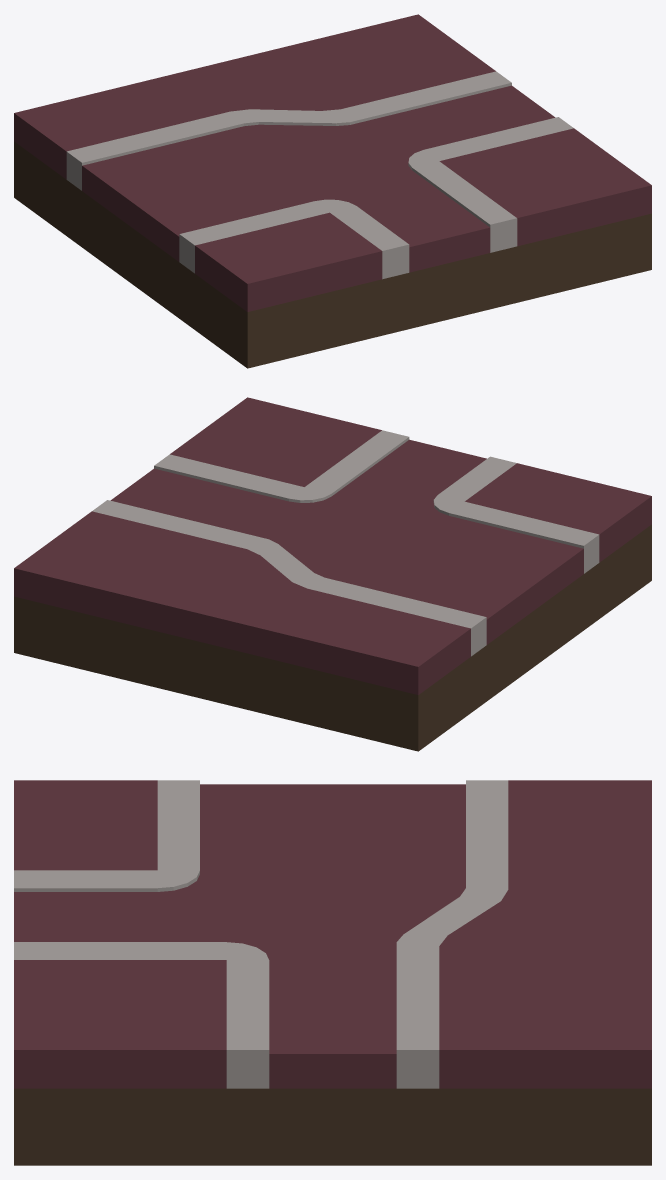
Rendered from tile-road-to-mainroad-intersection-t.fbx.
3 views of the same model, one above another, from view 1: azimuth 30°, elevation 25°; view 2: azimuth 150°, elevation 25°; view 3: azimuth 270°, elevation 25° (orthographic). The views are drawn at different scales.
Visible parts, largest first — view 1: tile-road-to-mainroad-intersection-t; view 2: tile-road-to-mainroad-intersection-t; view 3: tile-road-to-mainroad-intersection-t.
Part boxes in pixels (x1,y1,x2,y2): tile-road-to-mainroad-intersection-t: (14,14,651,368); tile-road-to-mainroad-intersection-t: (14,397,651,751); tile-road-to-mainroad-intersection-t: (14,780,651,1165).
Bounding box in the file's own units: 3000 × 600 × 3000.
